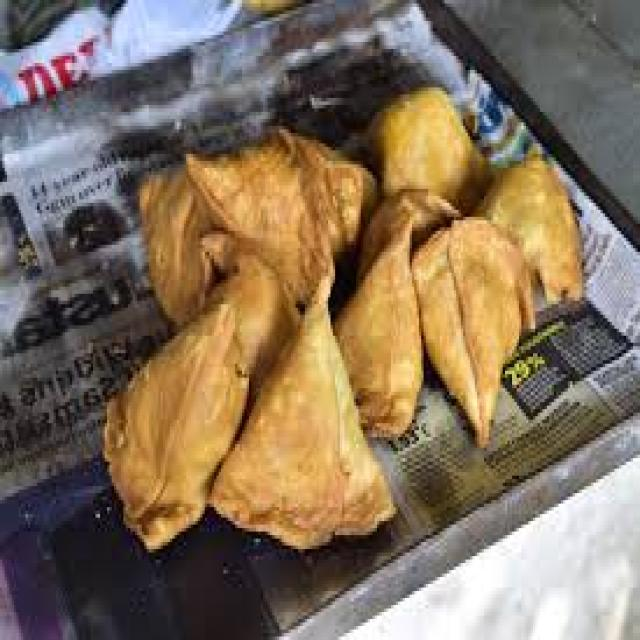SAMOSA: (209, 280, 393, 546), (105, 301, 247, 549), (186, 129, 372, 290), (414, 217, 533, 444), (335, 220, 421, 434), (475, 154, 579, 301), (370, 87, 486, 210), (209, 252, 298, 399), (140, 164, 212, 318)
